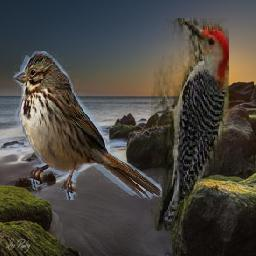Sparrow: (14, 52, 163, 201)
Woodpecker: (151, 19, 229, 232)
